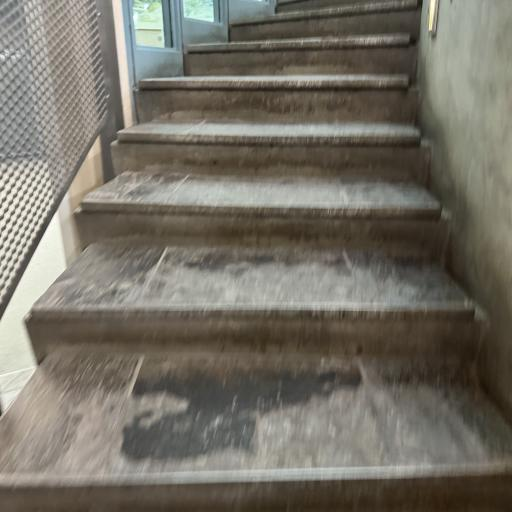Stairs: (0, 0, 512, 512), (0, 353, 512, 512), (26, 242, 482, 360), (75, 172, 447, 260), (112, 121, 429, 184), (136, 74, 418, 124), (184, 33, 418, 80), (230, 0, 422, 41), (274, 0, 422, 13)
